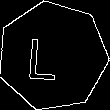L_N: (35, 30, 71, 82)
